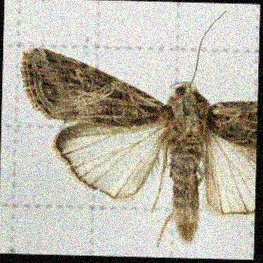Spodoptera litura: (18, 8, 257, 246)
